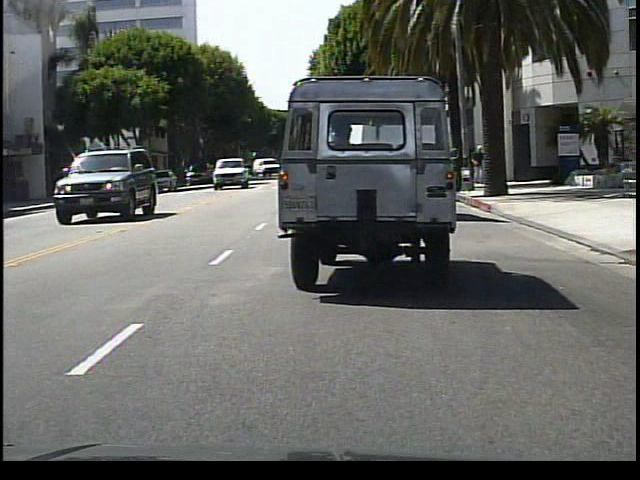person: (471, 144, 486, 185)
